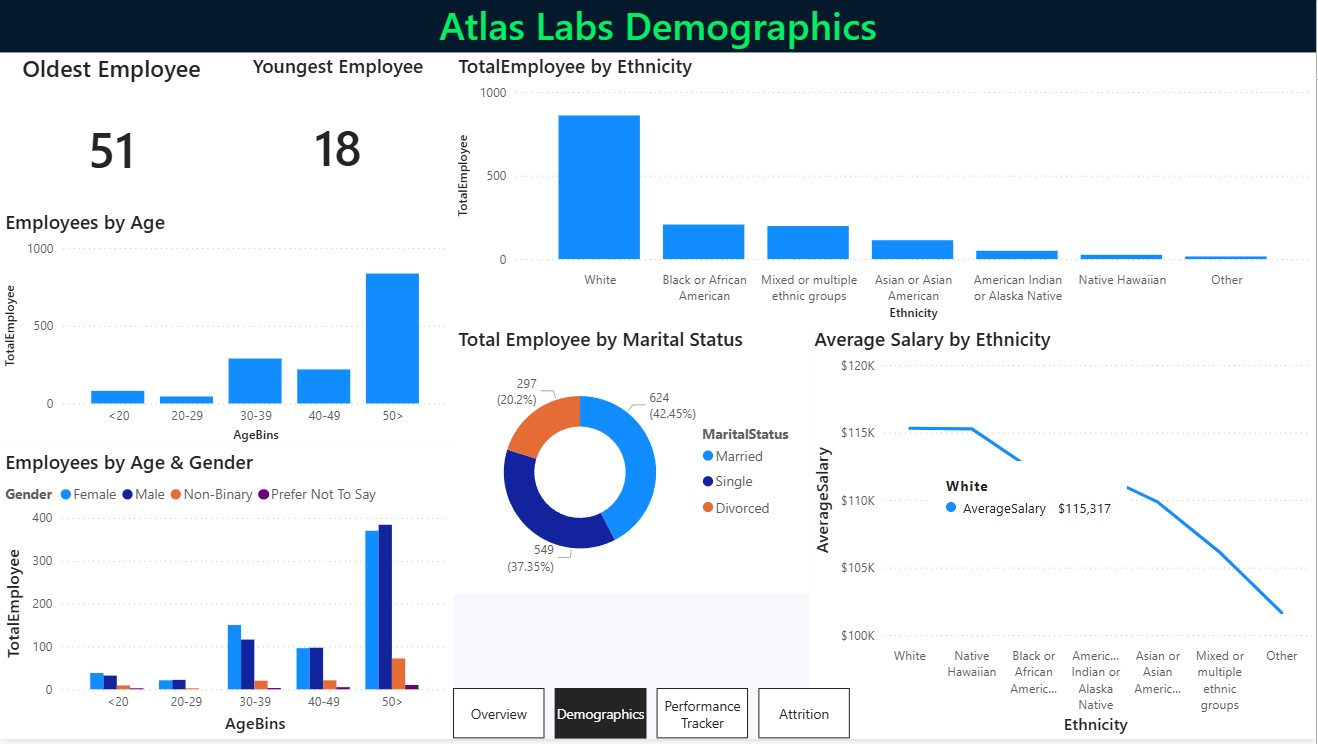

This screenshot's page, from the dashboard's own definition file:
{"tool":"powerbi","page":{"name":"Demographics","canvas":[1280,720],"ordinal":1},"visuals":[{"type":"card","title":"Oldest Employee","fields":{"Values":["Max(DimEmployee.Age)"]},"box":[0,51.6,216.9,156.6],"z":0},{"type":"card","title":"Youngest Employee","fields":{"Values":["Min(DimEmployee.Age)"]},"box":[216.9,51.6,223.7,156.6],"z":1000},{"type":"clusteredColumnChart","title":"Employees by Age & Gender","fields":{"Category":["DimEmployee.AgeBins"],"Y":["_Measures.TotalEmployee"],"Series":["DimEmployee.Gender"]},"box":[0,436.7,440.6,283],"z":2000},{"type":"columnChart","title":"Employees by Age","fields":{"Category":["DimEmployee.AgeBins"],"Y":["_Measures.TotalEmployee"]},"box":[0,203.3,440.6,233.4],"z":3000},{"type":"donutChart","fields":{"Y":["_Measures.TotalEmployee"],"Category":["DimEmployee.MaritalStatus"]},"box":[440.6,317.1,346.3,261.6],"z":4000},{"type":"lineChart","fields":{"Category":["DimEmployee.Ethnicity"],"Y":["_Measures.AverageSalary"]},"box":[786.9,317.1,493.1,402.7],"z":5000},{"type":"hundredPercentStackedColumnChart","fields":{"Category":["DimEmployee.Ethnicity"],"Y":["_Measures.TotalEmployee"]},"box":[440.6,51.6,839.4,265.5],"z":6000},{"type":"shape","title":"Atlas Labs Demographics","box":[0,0,1280,51.6],"z":7000},{"type":"pageNavigator","box":[440.6,670.2,388.1,49.6],"z":7001}]}

Visuals, with their boxes in screenshot pixels (x1, y1, x2, y2), scaled from the page's 1280x720 canvas onto the 1318x744 screenshot:
"Oldest Employee" card: left=0, top=53, right=223, bottom=215
"Youngest Employee" card: left=223, top=53, right=454, bottom=215
"Employees by Age & Gender" clusteredColumnChart: left=0, top=451, right=454, bottom=743
"Employees by Age" columnChart: left=0, top=210, right=454, bottom=451
donutChart - _Measures.TotalEmployee x DimEmployee.MaritalStatus: left=454, top=328, right=810, bottom=598
lineChart - DimEmployee.Ethnicity x _Measures.AverageSalary: left=810, top=328, right=1317, bottom=743
hundredPercentStackedColumnChart - DimEmployee.Ethnicity x _Measures.TotalEmployee: left=454, top=53, right=1317, bottom=328
"Atlas Labs Demographics" shape: left=0, top=0, right=1317, bottom=53
pageNavigator: left=454, top=693, right=853, bottom=743
